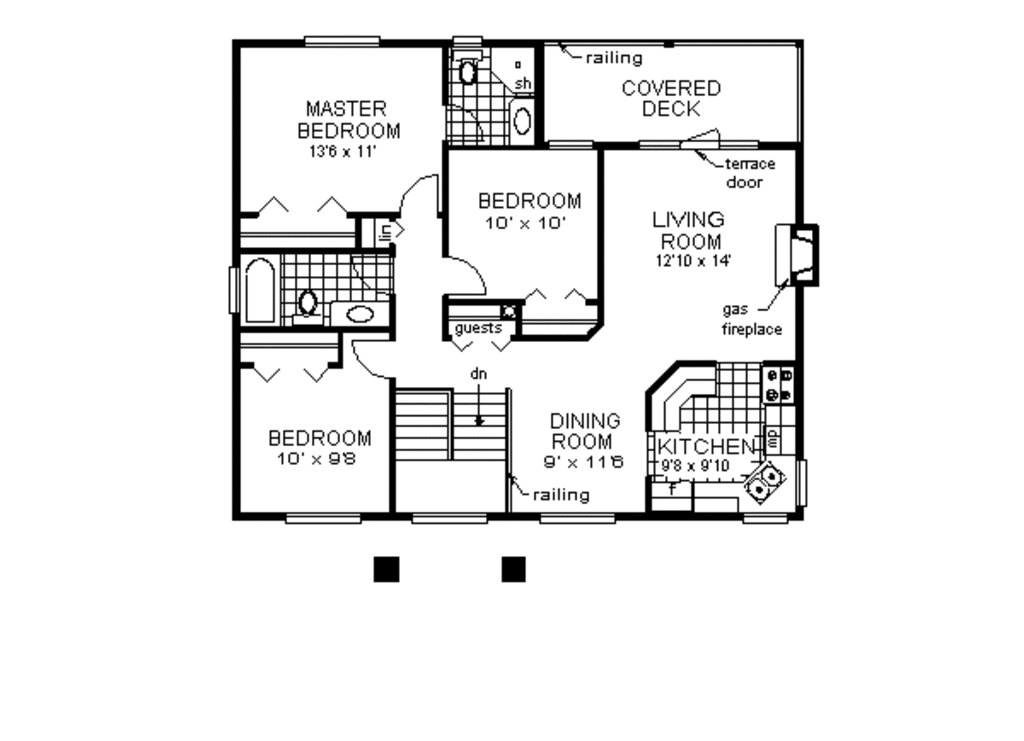door: (346, 335, 400, 385), (441, 254, 495, 303), (394, 174, 443, 219)
large_sink: (443, 34, 489, 87), (291, 284, 328, 326)
small_sink: (508, 90, 537, 147), (331, 299, 391, 325)
stairs: (392, 377, 513, 514)
tub: (238, 247, 280, 329)
twin_sink: (743, 454, 795, 514)
window: (282, 503, 363, 529), (536, 508, 624, 529), (408, 511, 496, 529), (742, 505, 803, 529), (542, 130, 596, 152), (801, 458, 816, 515), (301, 36, 379, 46)
